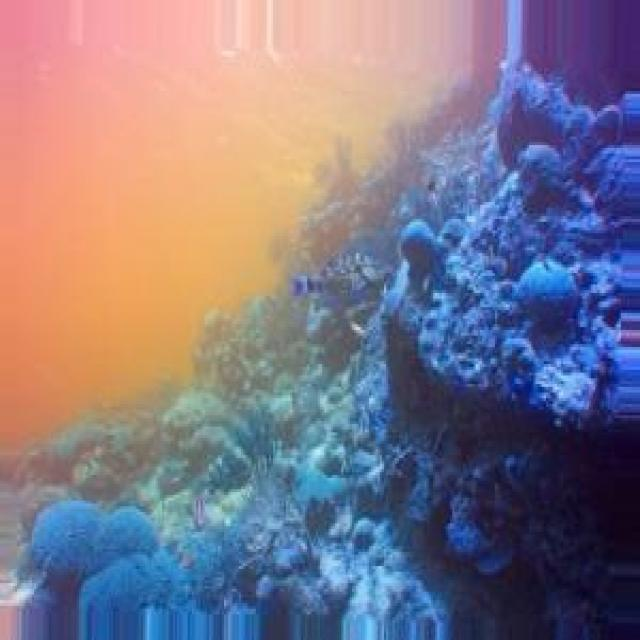Healthy: (33, 431, 394, 624), (402, 146, 624, 431)
